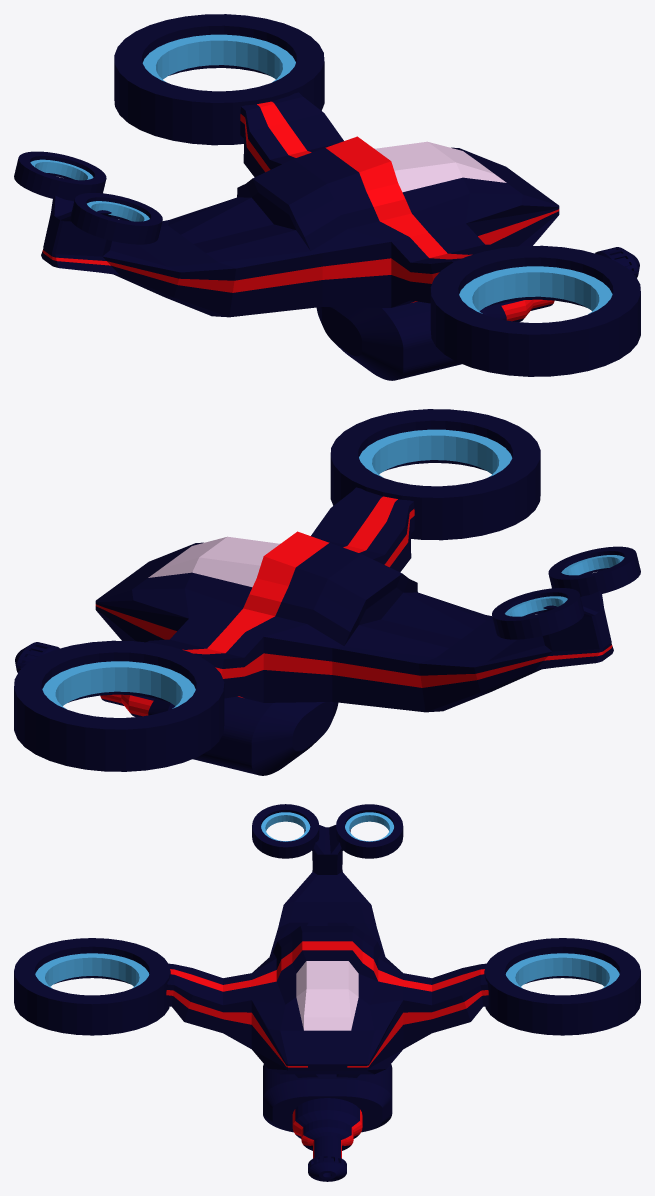
The model's file is nave2.fbx.
3 views of the same model, one above another, from view 1: azimuth 30°, elevation 25°; view 2: azimuth 150°, elevation 25°; view 3: azimuth 270°, elevation 25° (orthographic). The views are drawn at different scales.
Visible parts, largest first — view 1: nave, ala2 grande, ala1 grande, franjas, recamara, ala1 peque, ala2 peque, cabina, ala4 grande, ala3 grande, ala3 peque, cañon (+2 smaller); view 2: nave, ala1 grande, ala2 grande, franjas, recamara, ala2 peque, ala1 peque, cabina, ala3 grande, ala4 grande, cañon, ala4 peque (+2 smaller); view 3: nave, ala1 grande, ala2 grande, recamara, franjas, cabina, cañon, ala1 peque, ala2 peque, ala4 grande, ala3 grande, ala4 peque (+2 smaller).
Part boxes in pixels (x1,y1,x2,y2): nave: (41,92,559,317); ala2 grande: (430,245,640,376); ala1 grande: (114,14,324,145); franjas: (42,101,559,302); recamara: (316,301,506,380); ala1 peque: (142,34,295,82); ala2 peque: (459,266,612,313); cabina: (375,141,506,192); ala4 grande: (70,193,162,244); ala3 grande: (14,151,106,201); ala3 peque: (30,159,93,180); cañon: (500,247,639,322); nave: (95,487,613,712); ala1 grande: (14,640,224,771); ala2 grande: (330,409,540,540); franjas: (95,496,612,697); recamara: (148,696,338,775); ala2 peque: (359,429,512,477); ala1 peque: (42,661,195,708); cabina: (148,536,279,587); ala3 grande: (492,588,584,639); ala4 grande: (548,546,640,596); cañon: (15,642,154,717); ala4 peque: (561,555,624,575); nave: (166,825,488,1077); ala1 grande: (484,938,640,1035); ala2 grande: (14,938,170,1035); recamara: (263,1064,392,1132); franjas: (166,941,488,1067); cabina: (296,961,358,1030); cañon: (295,1098,359,1181); ala1 peque: (505,953,619,988); ala2 peque: (35,953,149,988); ala4 grande: (252,804,319,858); ala3 grande: (336,804,403,858); ala4 peque: (261,812,310,841).
Size of the model in its own units: 11.96 by 4.9 by 14.91.
